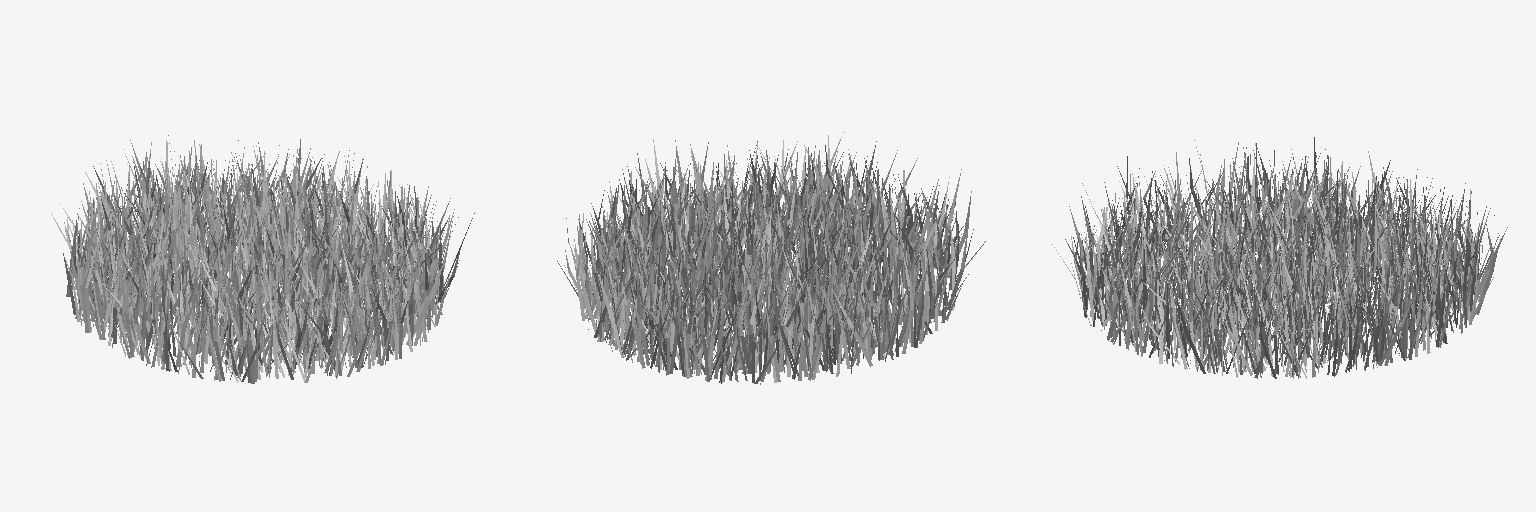
The model's file is grass2.obj.
3 renders of one model, left to right at view 1: azimuth 30°, elevation 25°; view 2: azimuth 150°, elevation 25°; view 3: azimuth 270°, elevation 25°, orthographic.
Parts seen in each view (by area): view 1: grass2; view 2: grass2; view 3: grass2.
Boxes of the visible parts, x1,y1,x2,y2 form: grass2: [51, 135, 474, 383]; grass2: [557, 132, 985, 384]; grass2: [1052, 137, 1507, 378].
Bounding box in the file's own units: 3.39 × 0.8797 × 3.91.